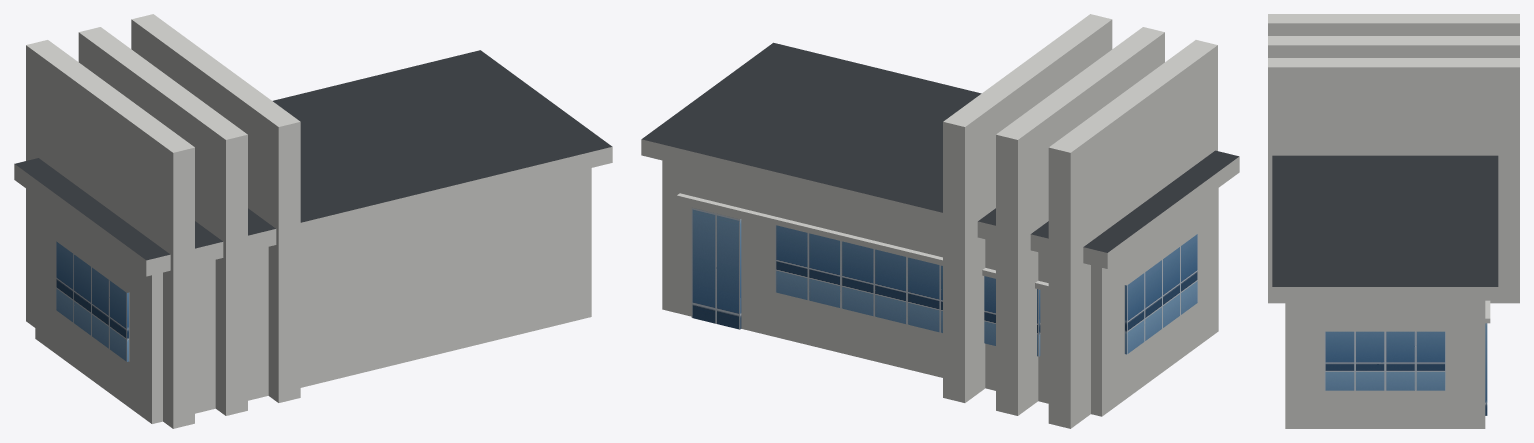
The model's file is gatehouse.glb.
3 renders of one model, left to right at view 1: azimuth 30°, elevation 25°; view 2: azimuth 150°, elevation 25°; view 3: azimuth 270°, elevation 25°, orthographic. The views are drawn at different scales.
Parts seen in each view (by area): view 1: 门卫岗亭; view 2: 门卫岗亭; view 3: 门卫岗亭.
Part boxes in pixels (x1,y1,x2,y2): 门卫岗亭: (14,14,612,428); 门卫岗亭: (641,14,1239,428); 门卫岗亭: (1268,14,1519,428).
Bounding box in the file's own units: 10.6 × 6 × 5.8.
Materials: 3 (1 with a texture image).
